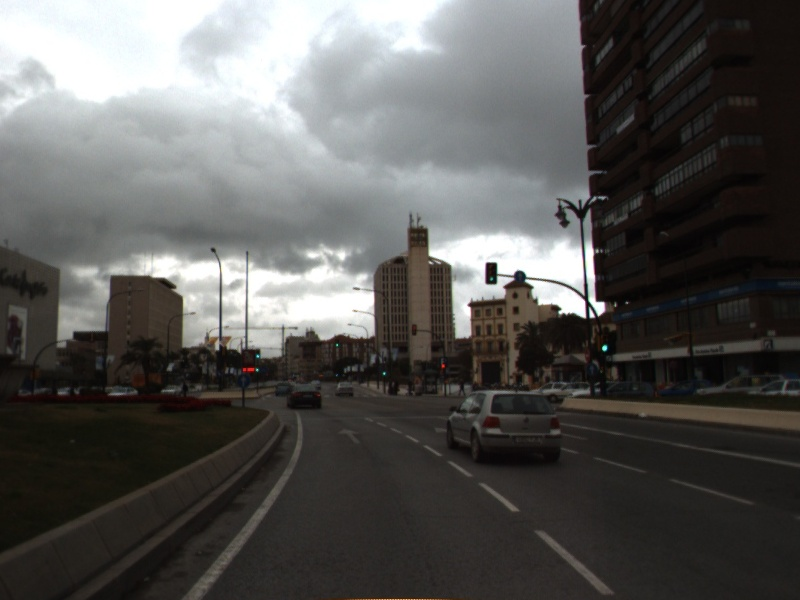STRAIGHT: (336, 426, 363, 446)
